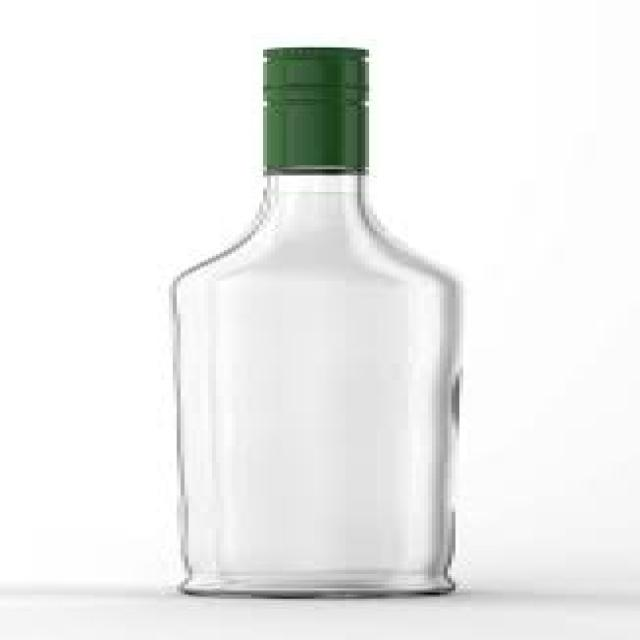glass: (161, 169, 459, 597)
metal: (255, 46, 365, 168)
